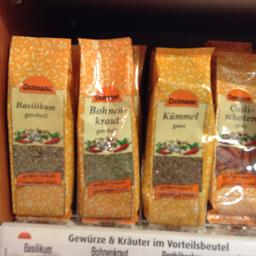spices: (4, 32, 74, 222), (145, 44, 216, 226), (74, 31, 140, 224)
